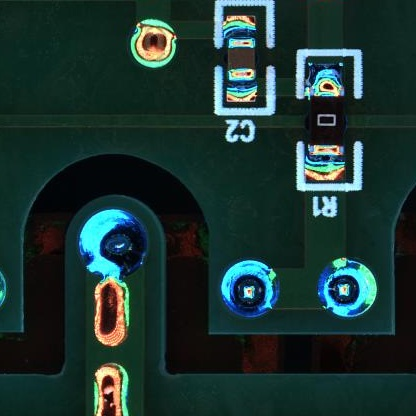spot: (78, 207, 150, 276), (220, 258, 278, 318), (318, 260, 377, 316)
